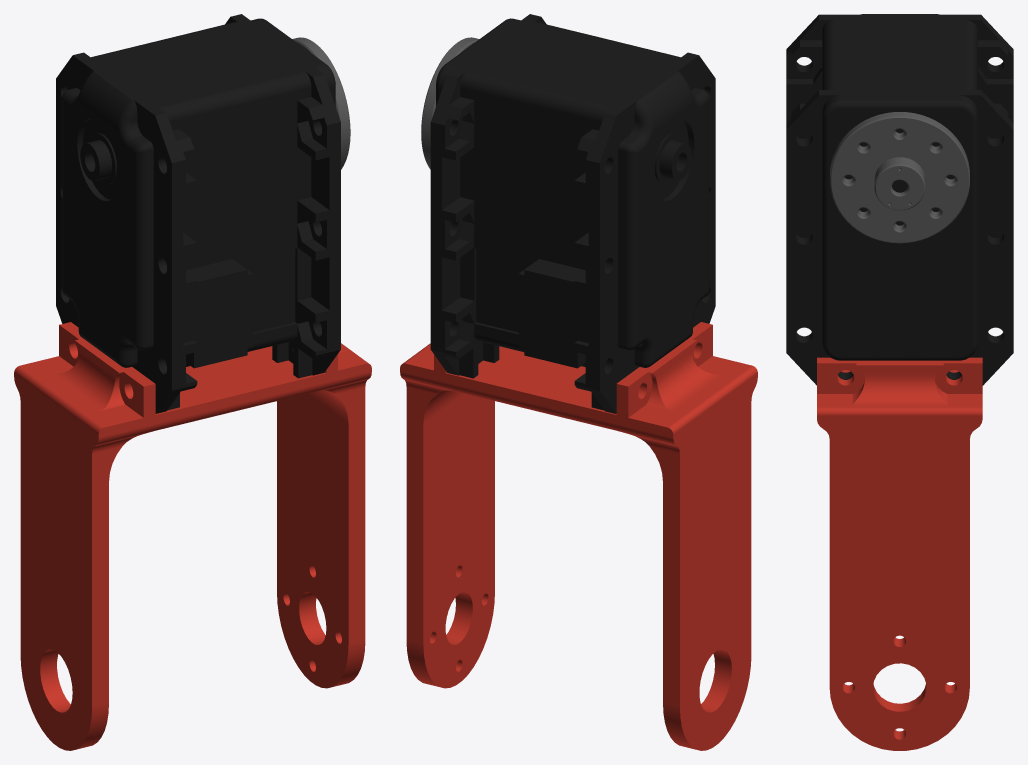
File: Right Calve.dae
3 views of the same model, side by side, from view 1: azimuth 30°, elevation 25°; view 2: azimuth 150°, elevation 25°; view 3: azimuth 270°, elevation 25° (orthographic). The views are drawn at different scales.
Parts seen in each view (by area): view 1: Body1_Paint_-_Metallic_(Black), Body1_Paint_-_Metallic_(Red), Body1_Paint_-_Metallic_(Dark_Grey); view 2: Body1_Paint_-_Metallic_(Black), Body1_Paint_-_Metallic_(Red), Body1_Paint_-_Metallic_(Dark_Grey); view 3: Body1_Paint_-_Metallic_(Black), Body1_Paint_-_Metallic_(Red), Body1_Paint_-_Metallic_(Dark_Grey).
Boxes of the visible parts, <box> form: Body1_Paint_-_Metallic_(Black): <box>56,14,340,413</box>; Body1_Paint_-_Metallic_(Red): <box>14,322,371,750</box>; Body1_Paint_-_Metallic_(Dark_Grey): <box>292,37,350,169</box>; Body1_Paint_-_Metallic_(Black): <box>430,14,715,413</box>; Body1_Paint_-_Metallic_(Red): <box>400,322,757,750</box>; Body1_Paint_-_Metallic_(Dark_Grey): <box>421,37,479,169</box>; Body1_Paint_-_Metallic_(Black): <box>786,14,1013,385</box>; Body1_Paint_-_Metallic_(Red): <box>817,357,982,750</box>; Body1_Paint_-_Metallic_(Dark_Grey): <box>830,112,969,243</box>.
Size of the model in its own units: 0.0488 by 0.0356 by 0.1096.
